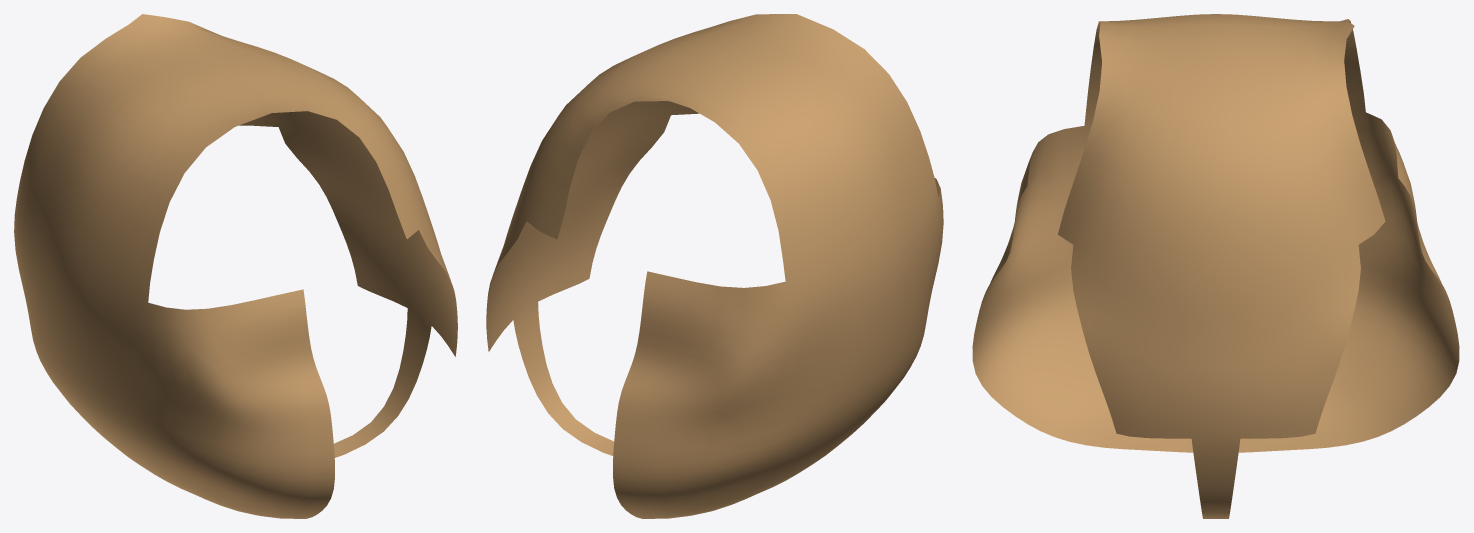
File: Low Poly Bear Inside Filler 1.fbx
The picture shows the model from 3 angles, left to right: view 1: azimuth 30°, elevation 25°; view 2: azimuth 150°, elevation 25°; view 3: azimuth 270°, elevation 25°; orthographic projection. The views are drawn at different scales.
Visible parts, largest first — view 1: Bear Final.010; view 2: Bear Final.010; view 3: Bear Final.010.
Boxes of the visible parts, x1,y1,x2,y2 form: Bear Final.010: [14, 14, 457, 518]; Bear Final.010: [486, 14, 943, 518]; Bear Final.010: [972, 14, 1459, 518].
Bounding box in the file's own units: 44.71 × 50.04 × 51.81.
